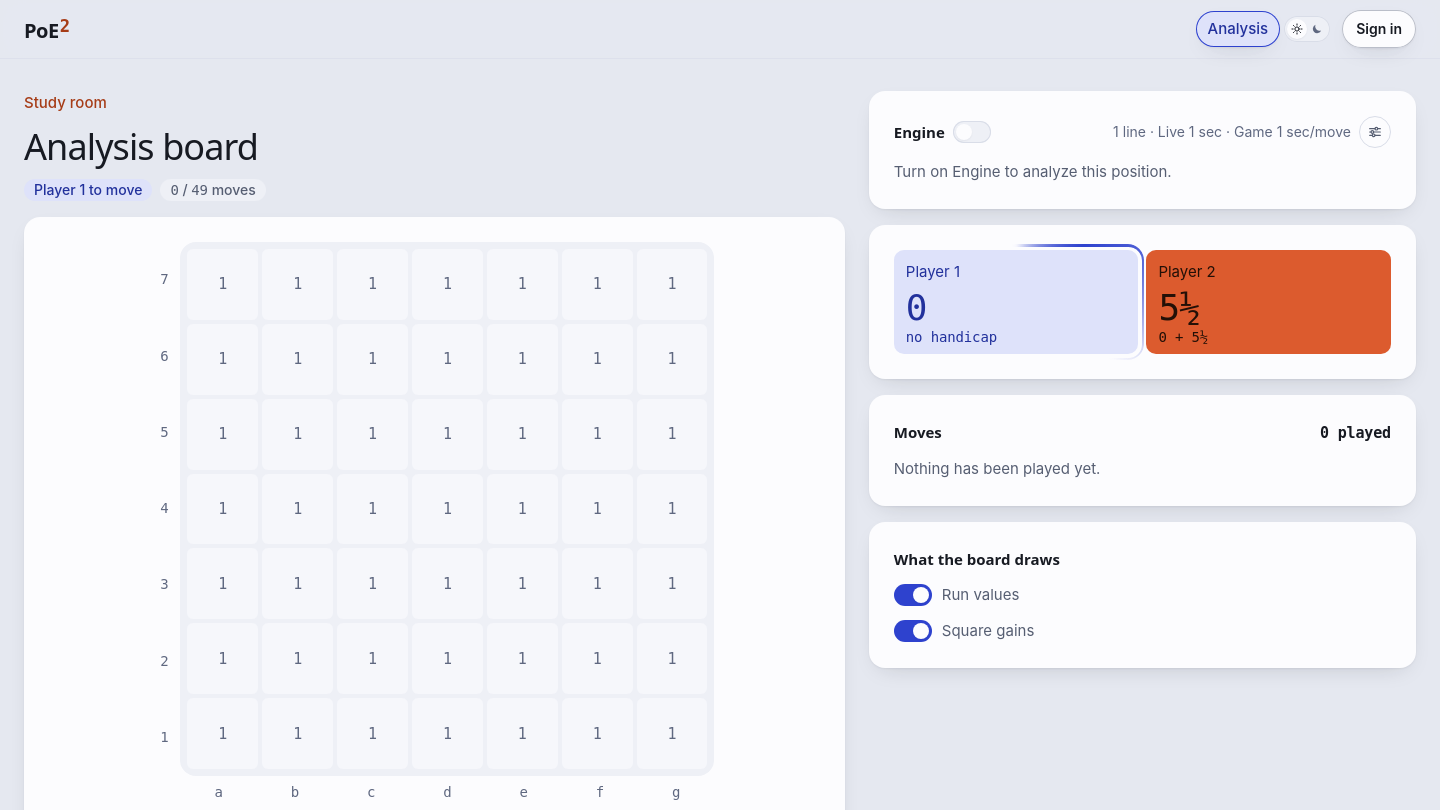
Test case: analysis page › lets the analysis settings be prepared before a search
Expected: the heading "Analysis board" is shown, [24,122,258,171]
Click the button named "Engine settings". click: (1375,132)
box: [1359,116,1391,148]
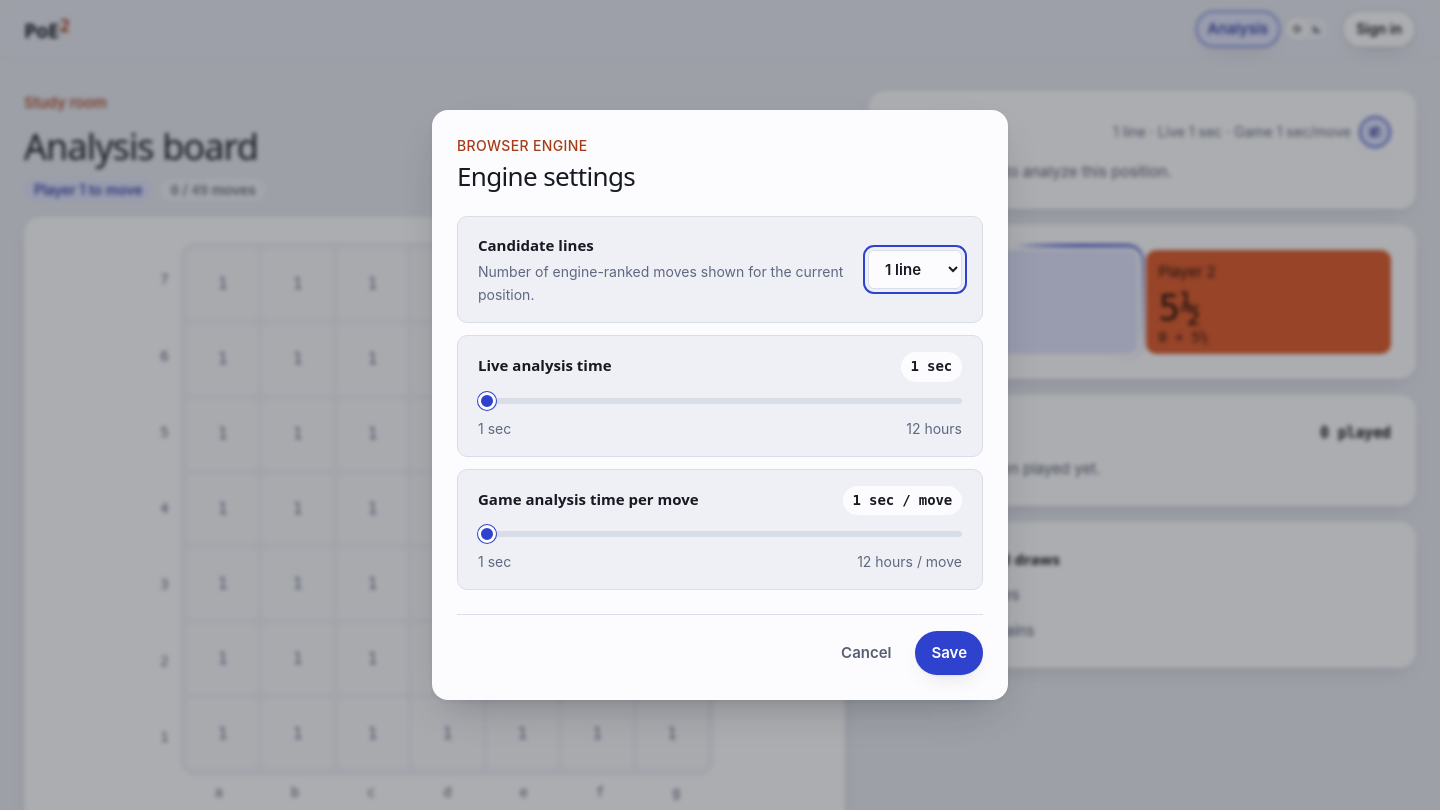
Expected: the dialog "Engine settings" is shown, [432,110,1008,700]
Select "5 lines" in the dropdown labelled "Candidate lines". click: (915,270)
box: [868,250,962,289]
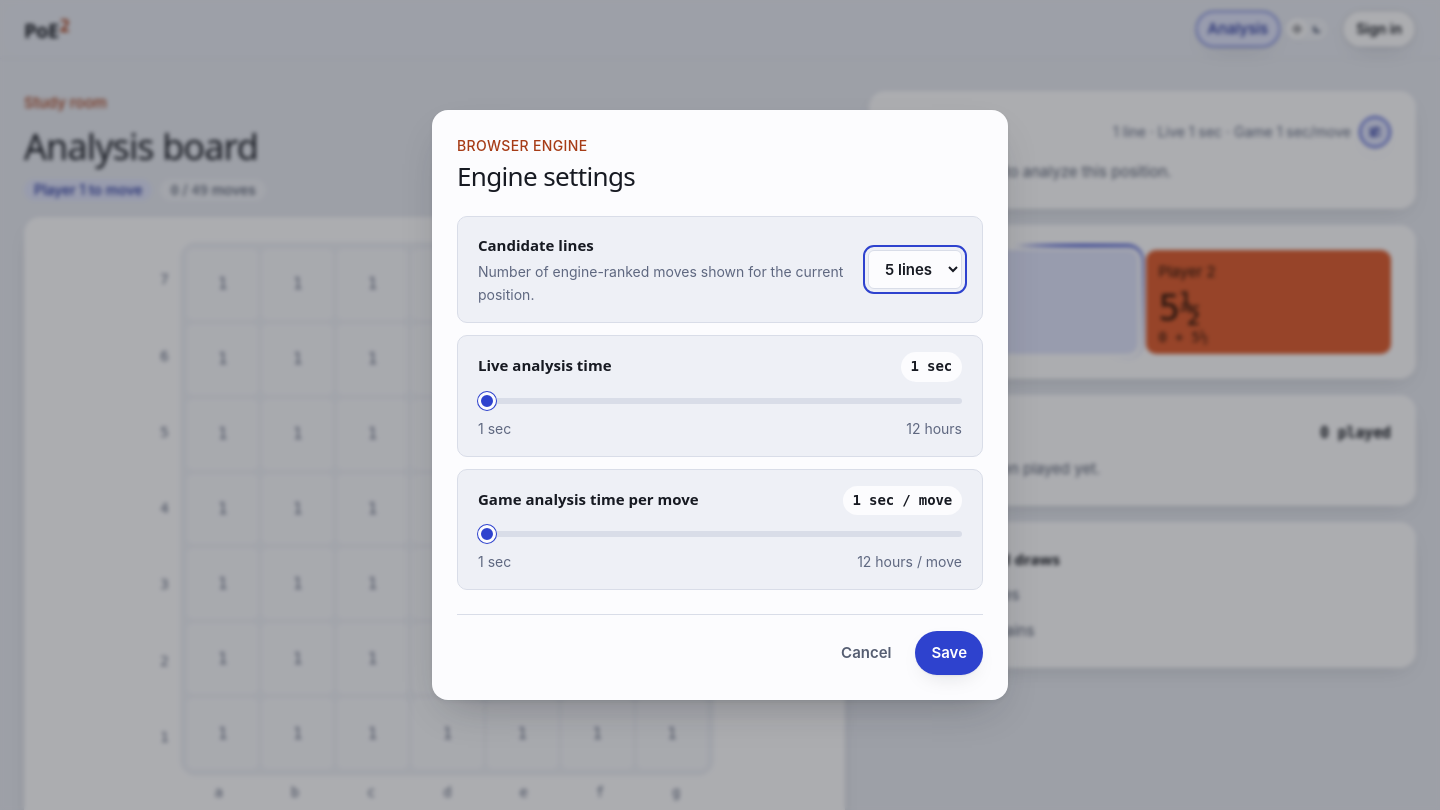
Set the slider labelled "Live analysis time" to "15". click: (954,401)
box: [478,398,962,404]
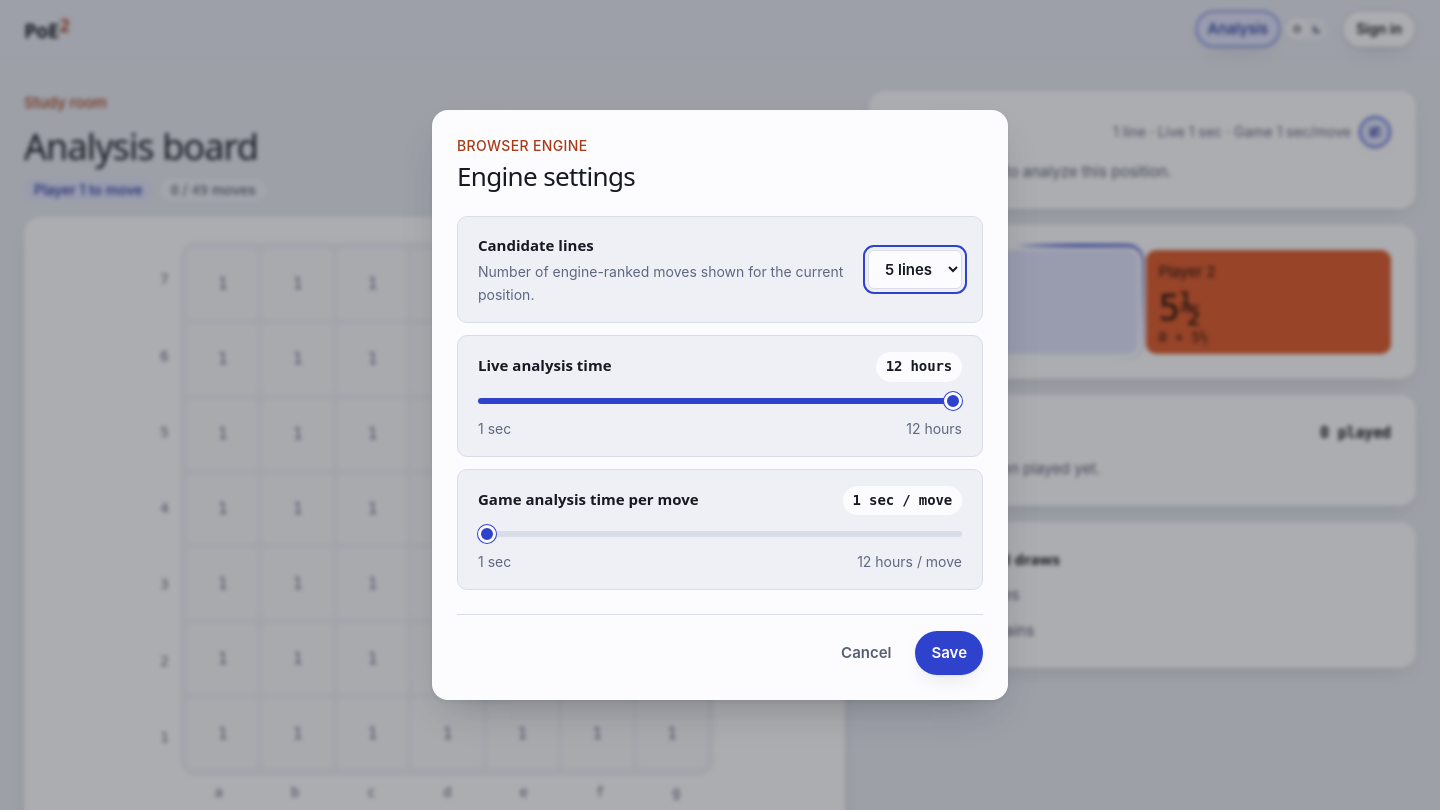
Set the slider labelled "Game analysis time per move" to "4". click: (611,534)
box: [478,531,962,537]
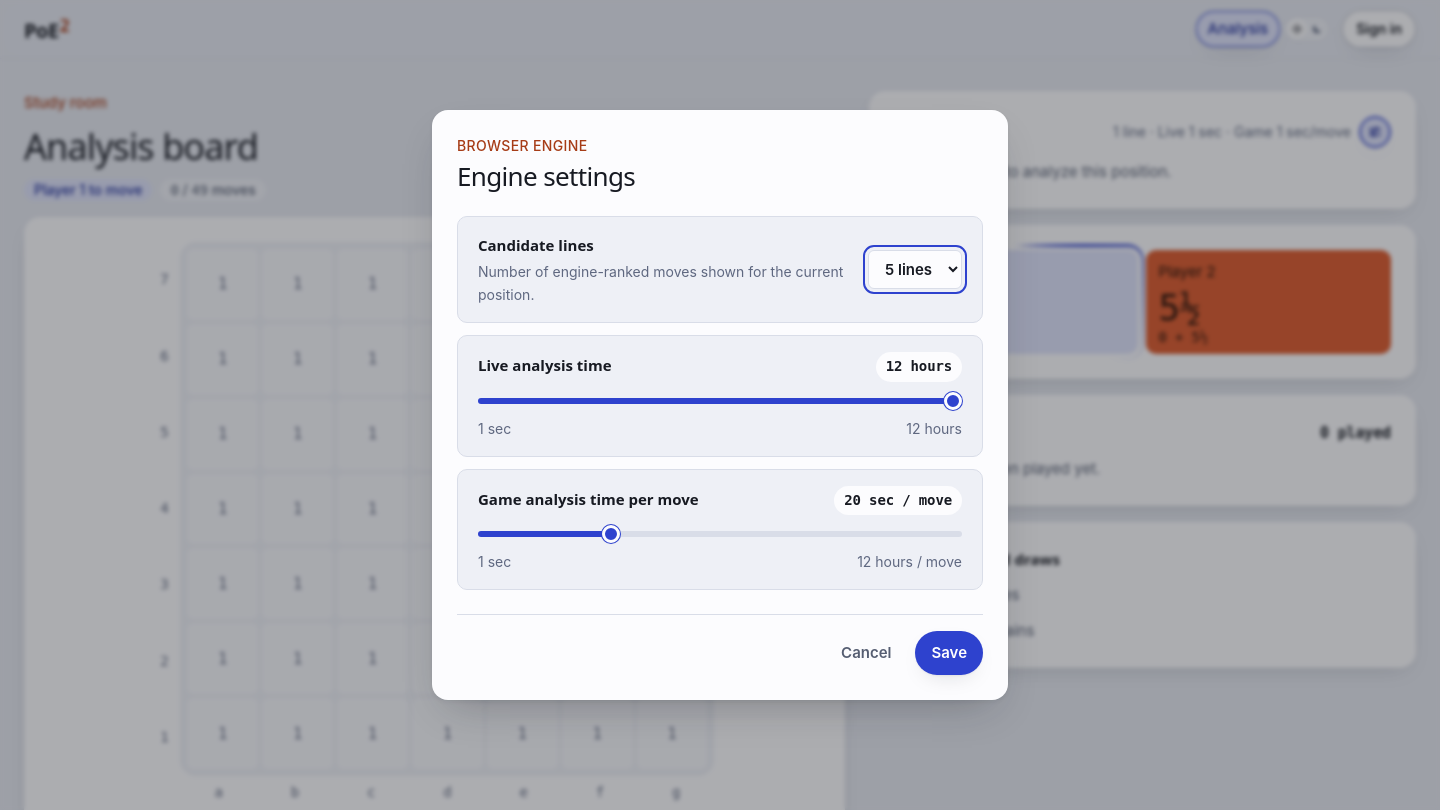
Click the button "Save". click: (949,653)
box: [916,631,983,675]
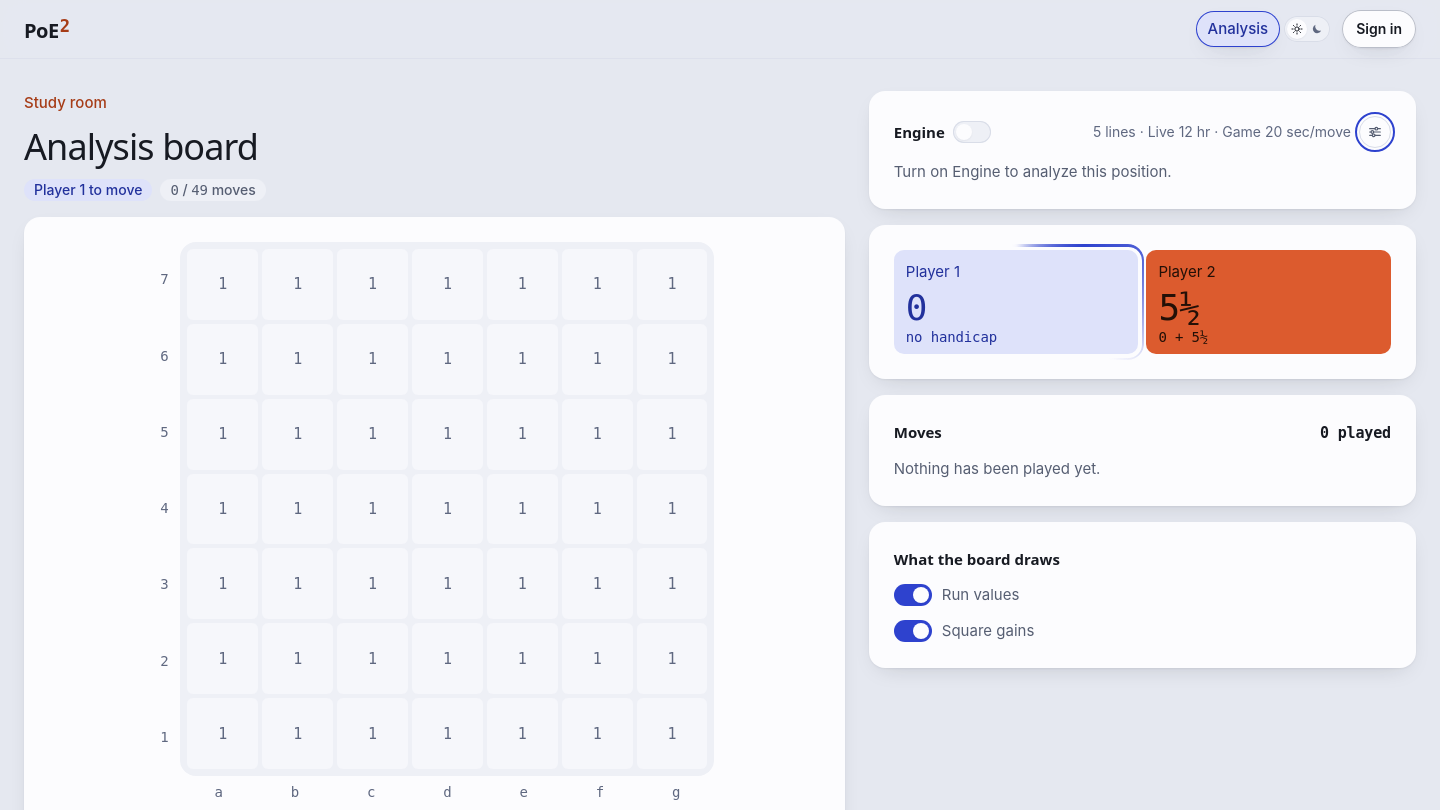
Expected: the heading "Engine settings" is gone
Expected: the text "5 lines · Live 12 hr · Game 20 sec/move" is shown, [1093,121,1351,142]
